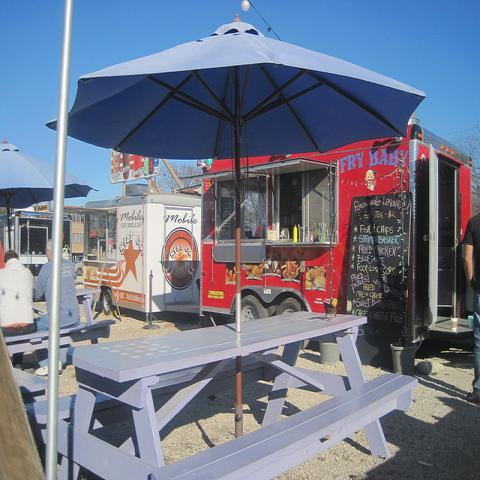truck: (201, 128, 473, 344), (84, 184, 202, 316), (0, 210, 73, 276)
